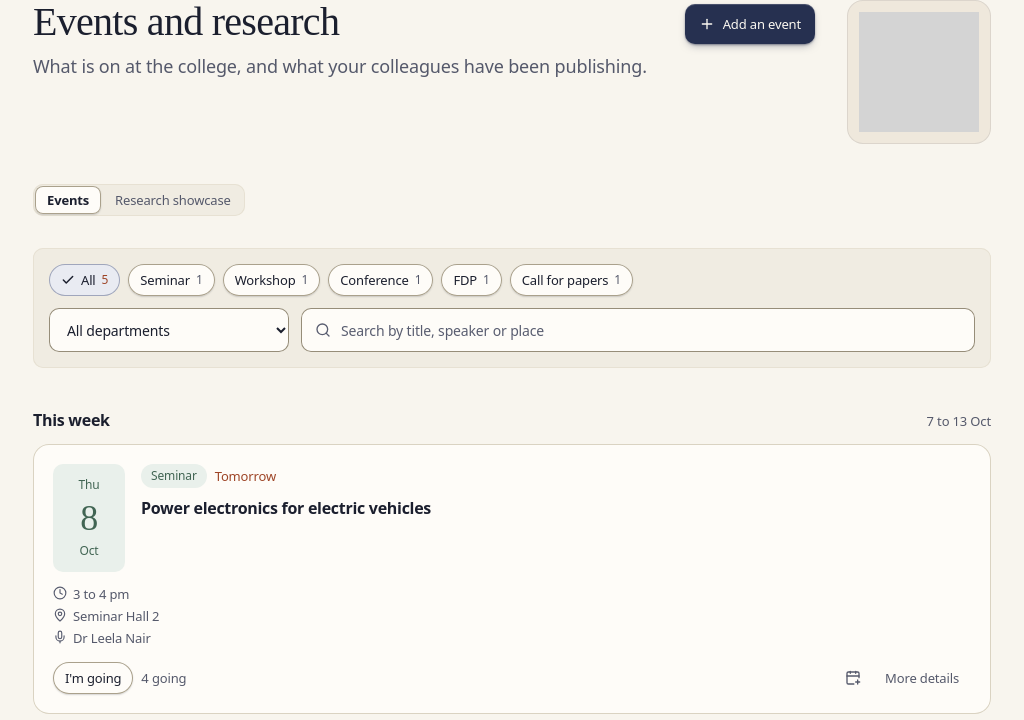
Test: Events page: the two halves › switches to the research showcase, and back
Step 1. Click the radio button labelled "Research showcase" → click(173, 200), box top-left (103, 186), bottom-right (243, 214)
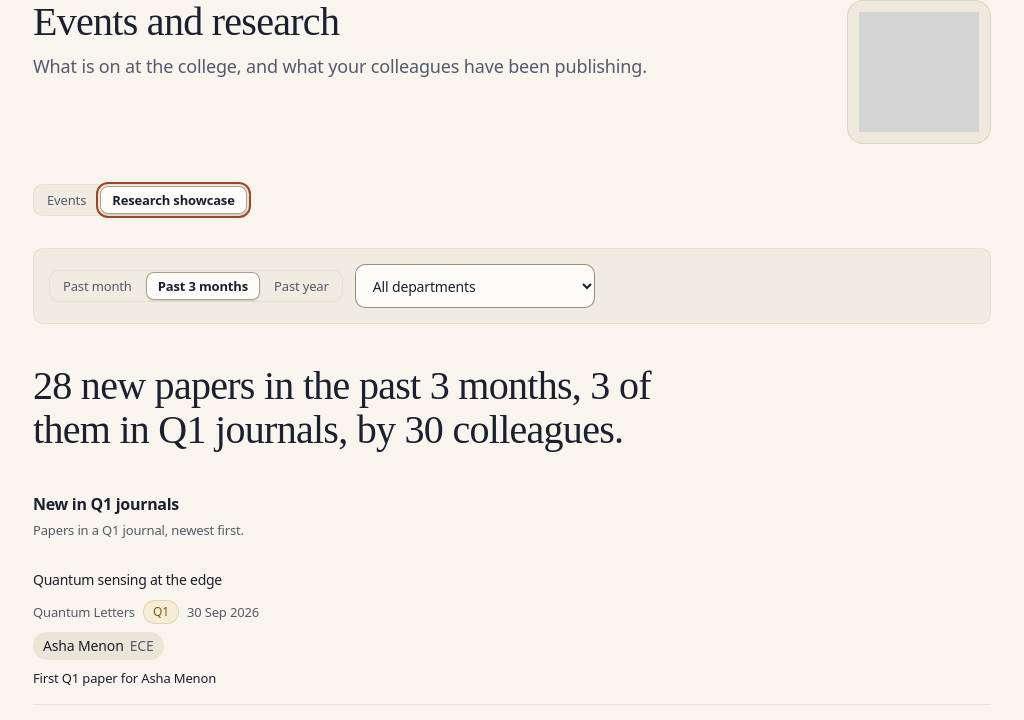
Result: the radio button labelled "Research showcase" is checked at top-left (100, 186), bottom-right (247, 214)
Result: the heading "This week" is gone
Result: the heading "New in Q1 journals" is shown at top-left (33, 492), bottom-right (179, 516)
Step 2. Click the radio button labelled "Events" → click(67, 200), box top-left (35, 186), bottom-right (98, 214)
(page scrolled)
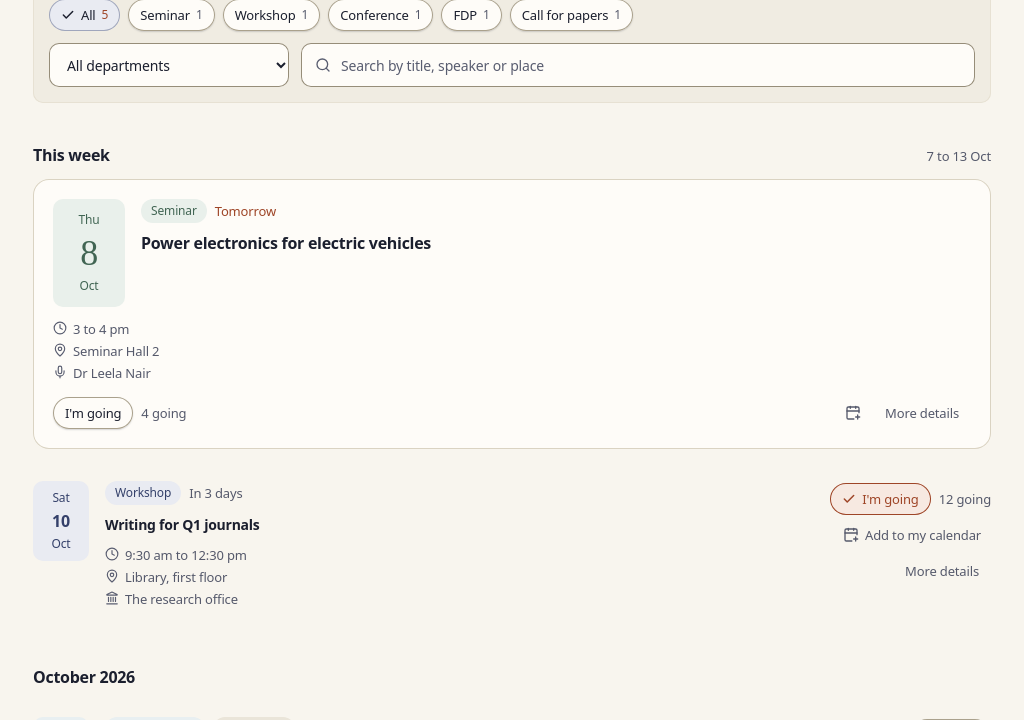
Result: the element "This week" is shown
